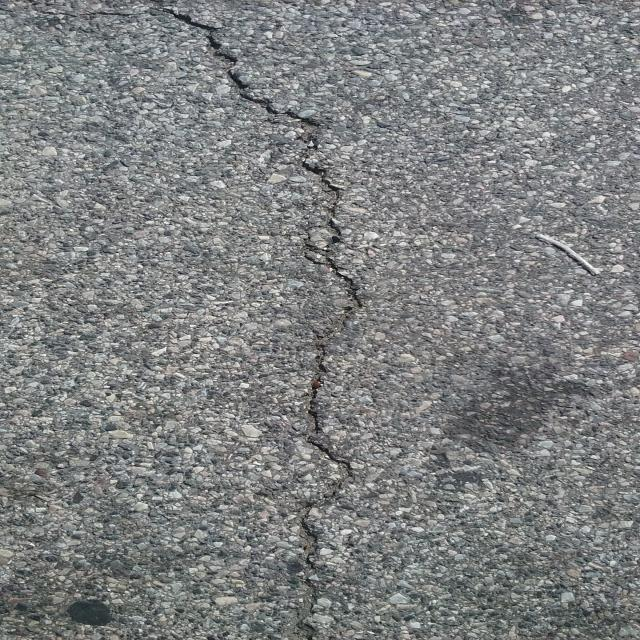Longitudial: (120, 2, 410, 640)
